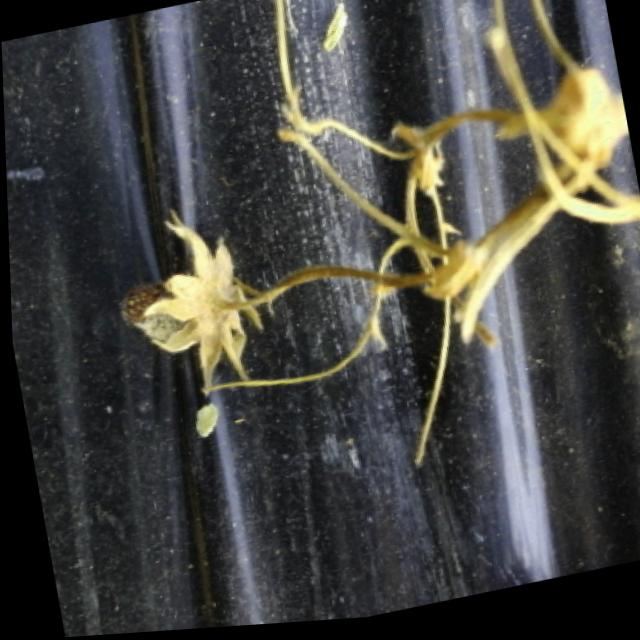Gray Mold: (116, 212, 261, 401)
